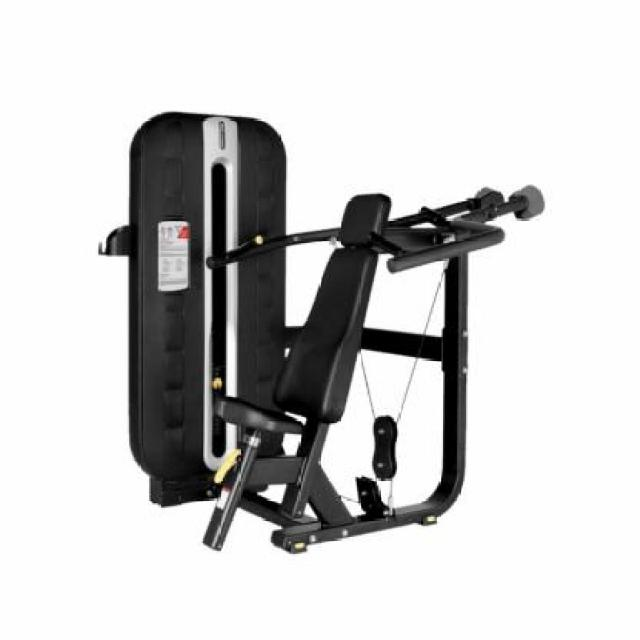shoulder press machine: (92, 88, 557, 572)
